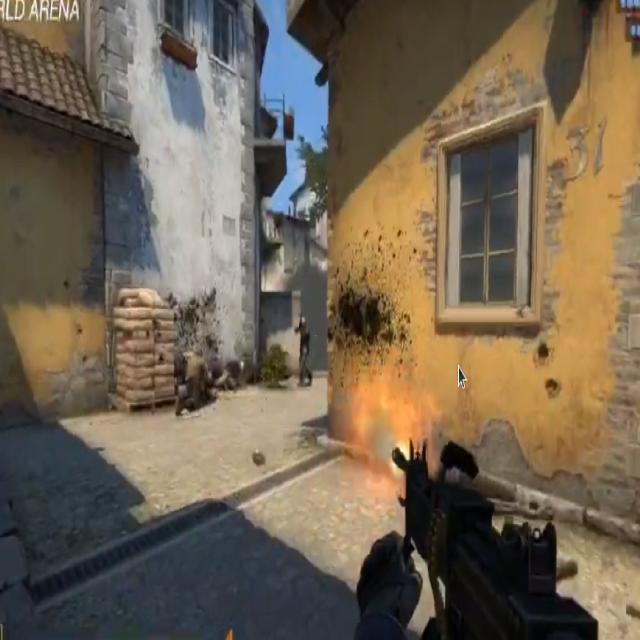person2: (295, 316, 312, 388)
